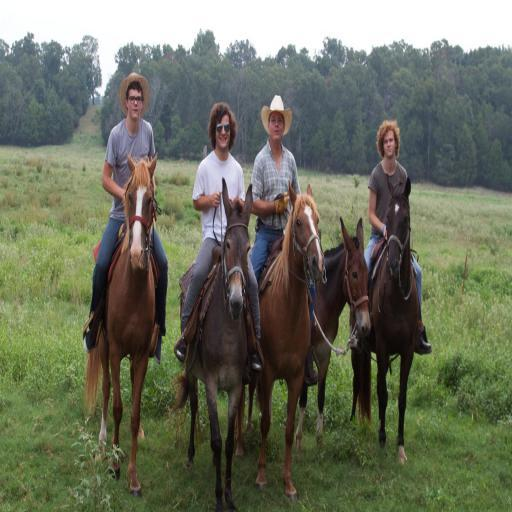Horse: (234, 182, 325, 506), (85, 152, 159, 500), (350, 173, 420, 463)
